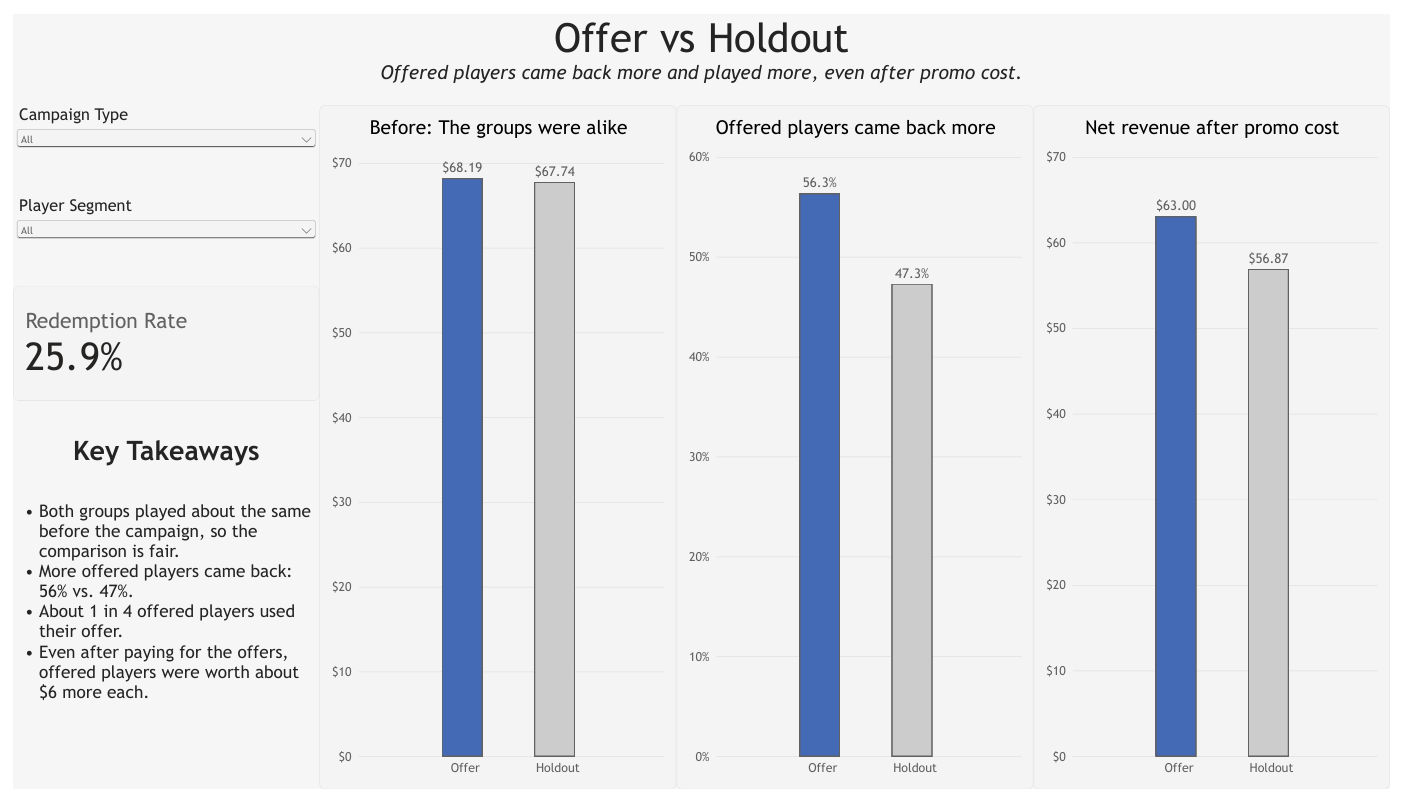

Layout of this report page (visuals, bound fields, positions):
{"tool":"powerbi","page":{"name":"Offer vs Holdout","canvas":[1920,1080],"ordinal":1},"visuals":[{"type":"textbox","box":[0,0,1920.5,127.2],"z":0},{"type":"slicer","title":"Campaign Type","fields":{"Values":["Player Summary.campaign_name"]},"box":[0,127.2,427.5,127.2],"z":1000},{"type":"clusteredColumnChart","title":"Before: The groups were alike","fields":{"Category":["Player Summary.group"],"Y":["Avg(Player Summary.pre_revenue)"]},"box":[427.5,127.2,497.6,953.6],"z":2000},{"type":"slicer","title":"Campaign Type","fields":{"Values":["Player Summary.player_segment"]},"box":[0,254.3,427.5,125],"z":3000},{"type":"clusteredColumnChart","title":"Offered players came back more","fields":{"Category":["Player Summary.group"],"Y":["Key Measures.Return Rate"]},"box":[925.1,127.2,497.6,953.6],"z":4000},{"type":"clusteredColumnChart","title":"Net revenue after promo cost","fields":{"Category":["Player Summary.group"],"Y":["Avg(Player Summary.net_revenue)"]},"box":[1422.8,127.2,497.6,953.6],"z":5000},{"type":"cardVisual","fields":{"Data":["Key Measures.Redemption Rate"]},"box":[0,379.3,427.5,160],"z":5001},{"type":"textbox","box":[0,539,427,541],"z":5002}]}

Visuals, with their boxes in screenshot pixels (x1, y1, x2, y2), scaled from the page's 1920x1080 canvas onto the 1402x802 screenshot:
textbox: <box>0,0,1401,94</box>
"Campaign Type" slicer: <box>0,94,312,189</box>
"Before: The groups were alike" clusteredColumnChart: <box>312,94,676,801</box>
"Campaign Type" slicer: <box>0,189,312,282</box>
"Offered players came back more" clusteredColumnChart: <box>676,94,1039,801</box>
"Net revenue after promo cost" clusteredColumnChart: <box>1039,94,1401,801</box>
cardVisual - Key Measures.Redemption Rate: <box>0,282,312,400</box>
textbox: <box>0,400,312,801</box>
